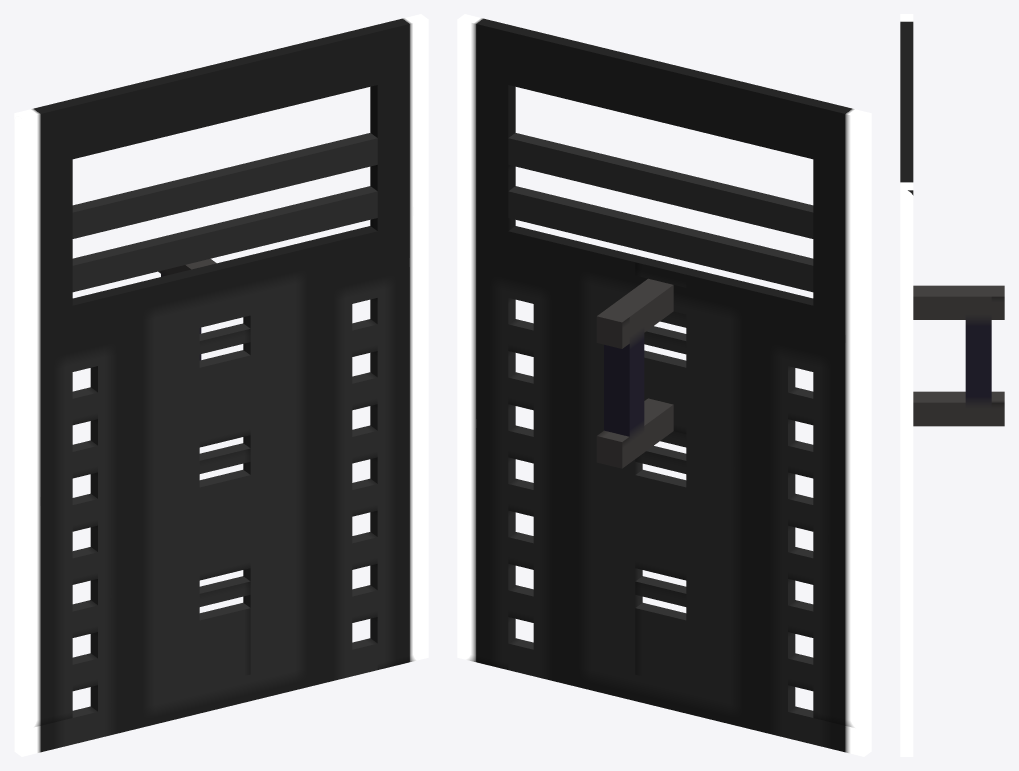
File: Riot Shield.dae
The picture shows the model from 3 angles, left to right: view 1: azimuth 30°, elevation 25°; view 2: azimuth 150°, elevation 25°; view 3: azimuth 270°, elevation 25°; orthographic projection. The views are drawn at different scales.
Parts seen in each view (by area): view 1: RiotShield; view 2: RiotShield; view 3: RiotShield.
Boxes of the visible parts, bbox=[...] form: RiotShield: bbox=[14, 14, 428, 756]; RiotShield: bbox=[457, 14, 871, 756]; RiotShield: bbox=[900, 14, 1004, 756].
Bounding box in the file's own units: 32 × 48 × 8.
Materials: 1 (1 with a texture image).
